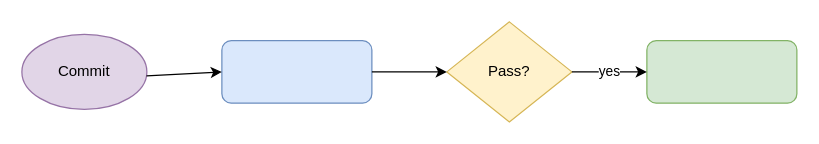
This 819x144 diagram has some shape labels left out. Each missing label, with the centre of its shape:
"Build & test" goes at point (296, 71).
"Deploy" goes at point (721, 71).
